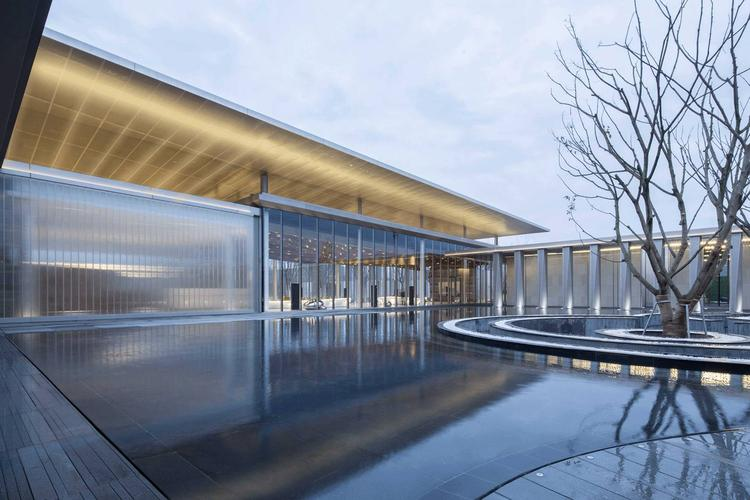buildings: (12, 88, 665, 340)
